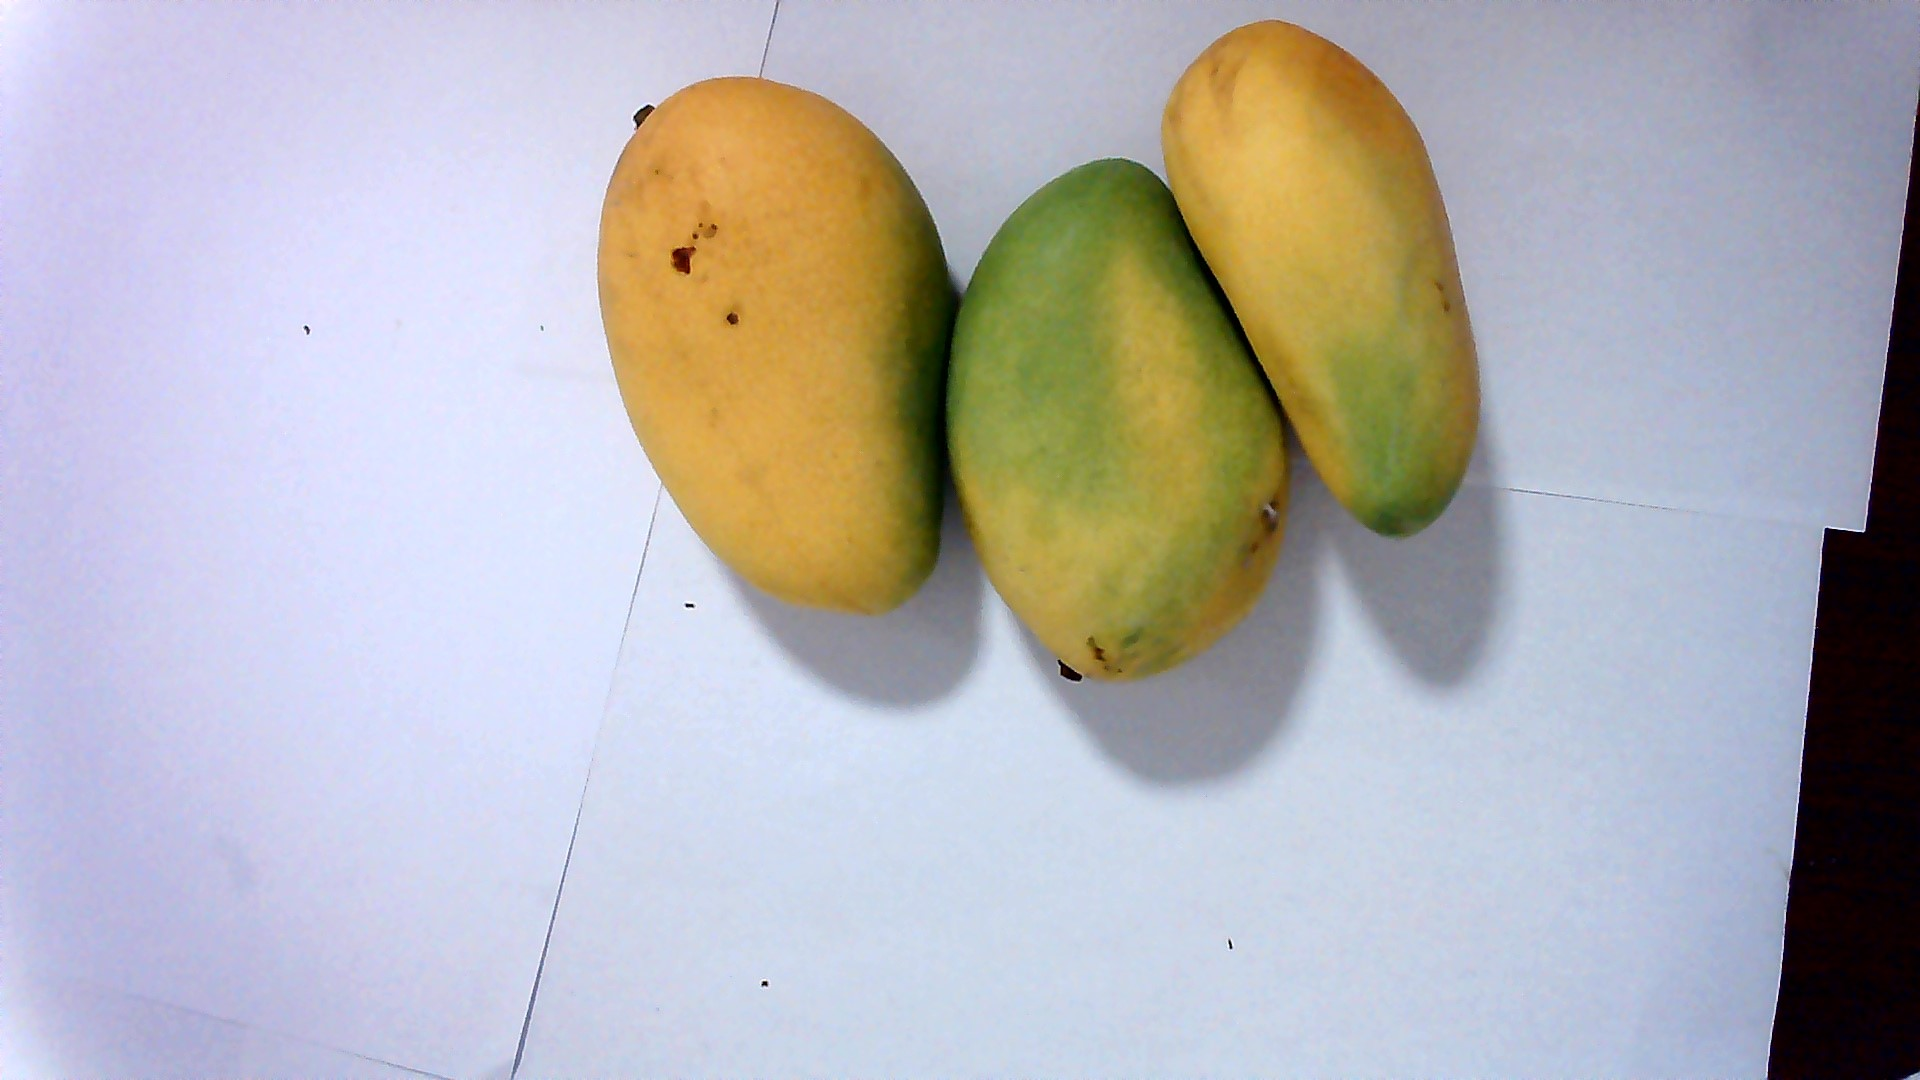mongo: (607, 87, 953, 647), (1151, 9, 1513, 535), (955, 167, 1284, 687)
